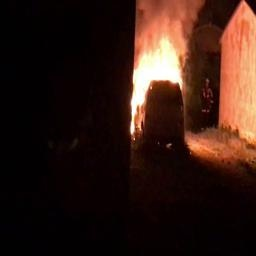fire: (122, 4, 202, 126)
